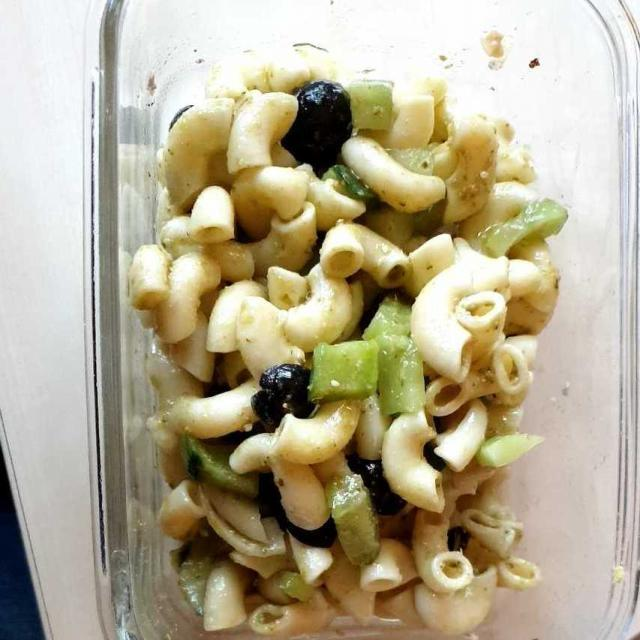black-olives: (246, 75, 396, 555)
